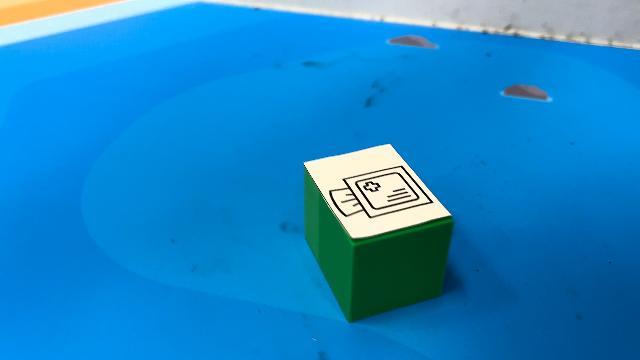napkin: (300, 144, 456, 324)
